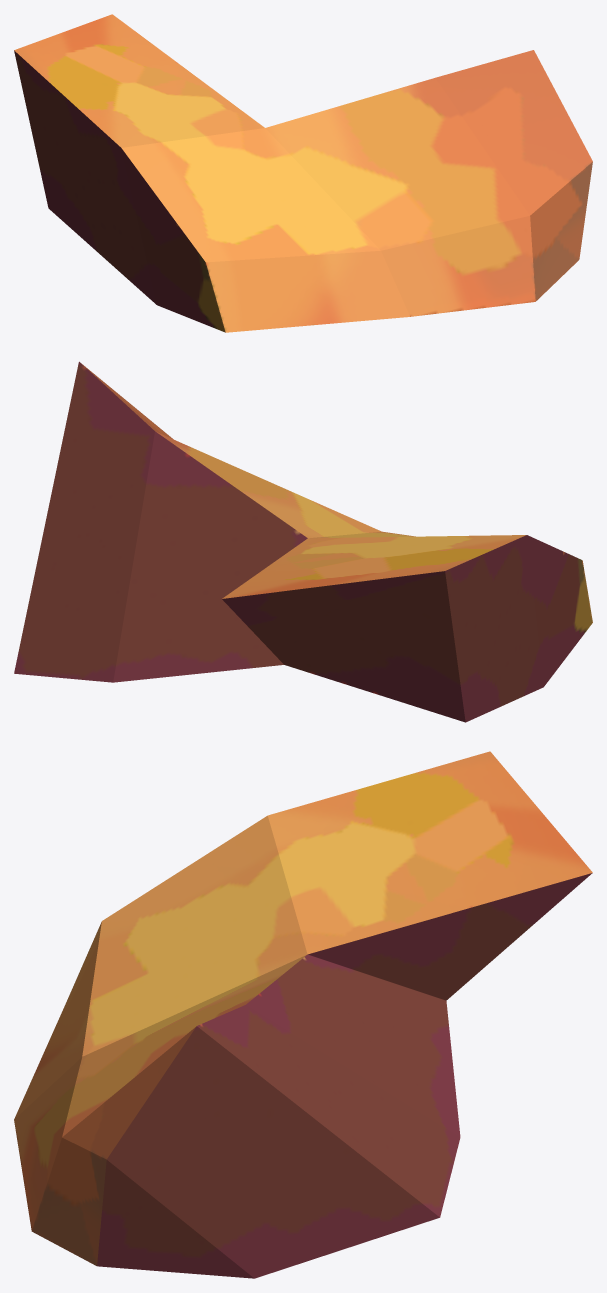
File: Grips2Broken.fbx
3 renders of one model, top to bottom at view 1: azimuth 30°, elevation 25°; view 2: azimuth 150°, elevation 25°; view 3: azimuth 270°, elevation 25°, orthographic. The views are drawn at different scales.
Parts seen in each view (by area): view 1: Grips2Broken; view 2: Grips2Broken; view 3: Grips2Broken.
Boxes of the visible parts, box(x1,y1,x2,y2) form: Grips2Broken: box(14, 14, 592, 332); Grips2Broken: box(14, 361, 592, 722); Grips2Broken: box(14, 751, 592, 1278).
Bounding box in the file's own units: 1.75 × 1.93 × 0.9237.
1 material, 1 textured.
